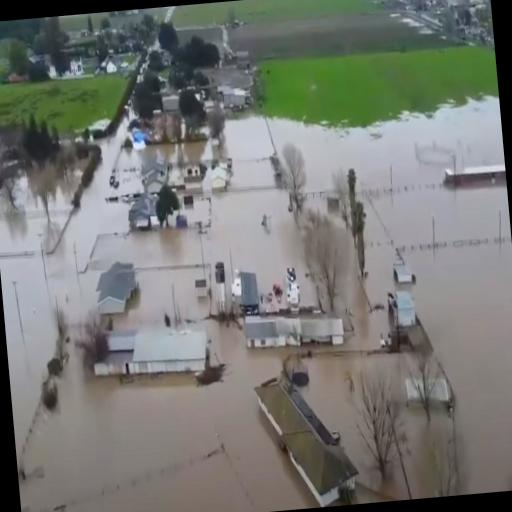flood: (270, 96, 512, 495), (16, 318, 321, 512), (0, 116, 142, 469), (87, 116, 309, 294), (300, 273, 453, 504), (113, 270, 209, 330)
house: (251, 364, 361, 512), (97, 314, 214, 386), (240, 301, 354, 355), (91, 260, 141, 314), (444, 159, 507, 193), (127, 190, 161, 234), (140, 154, 172, 194), (182, 160, 202, 184), (210, 166, 228, 192), (104, 56, 119, 74)
